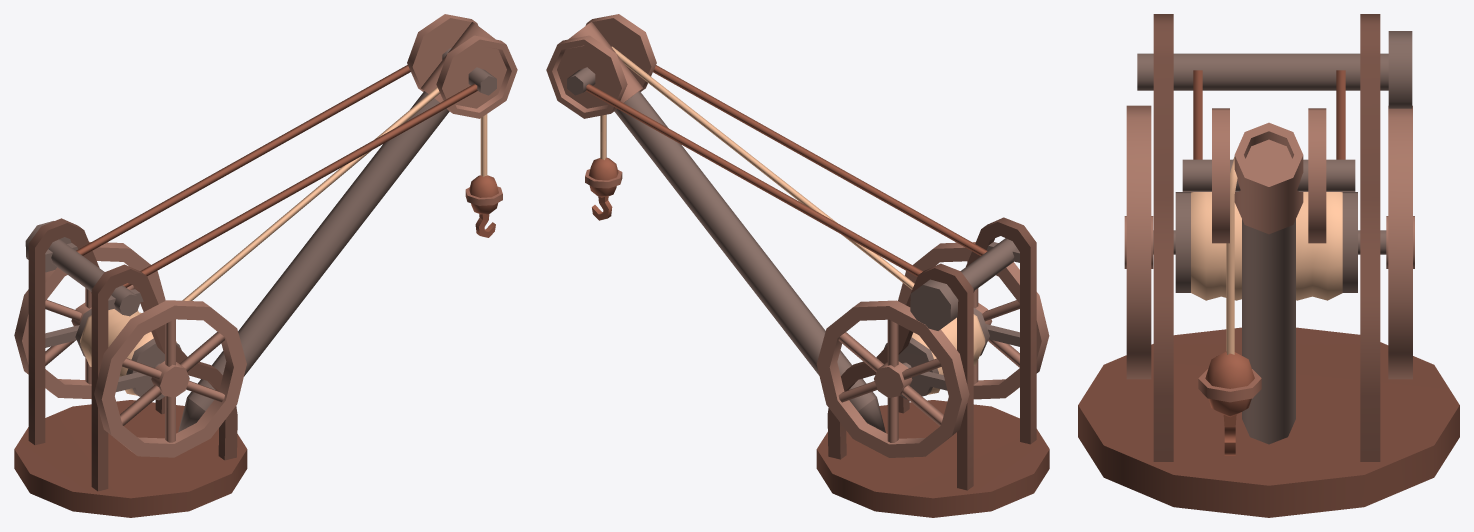
Rendered from crane_001.glb.
The picture shows the model from 3 angles, left to right: view 1: azimuth 30°, elevation 25°; view 2: azimuth 150°, elevation 25°; view 3: azimuth 270°, elevation 25°; orthographic projection. The views are drawn at different scales.
Visible parts, largest first — view 1: crane_001; view 2: crane_001; view 3: crane_001.
Part boxes in pixels (x1,y1,x2,y2): crane_001: (14,14,517,517); crane_001: (546,14,1049,517); crane_001: (1078,14,1459,517).
Size of the model in its own units: 3.13 by 2.29 by 1.34.
1 material, 1 textured.
